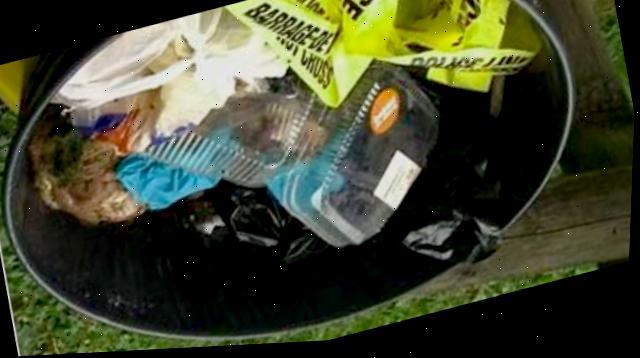Disposable: (151, 66, 440, 250)
Garbage: (6, 0, 570, 339)
Plastic: (227, 0, 541, 110)
Plastic_Bag: (57, 9, 286, 136), (71, 89, 163, 156), (116, 153, 221, 211)
